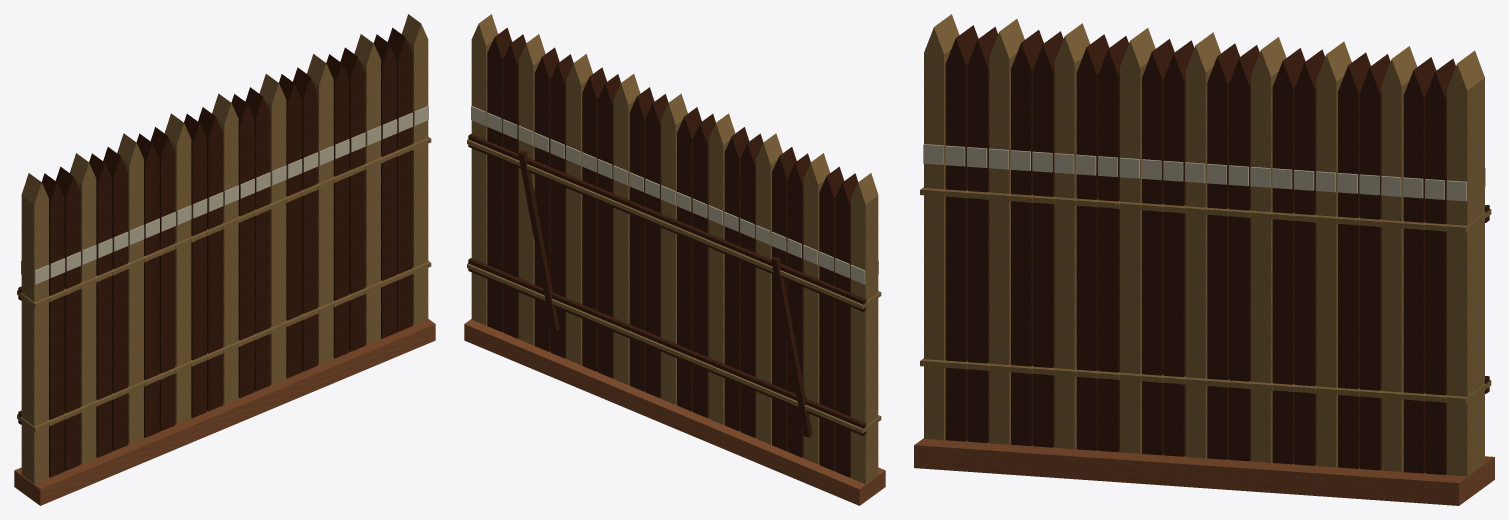
The model's file is Berber_Palisade_Age2_slope_up_6m.fbx.
3 views of the same model, side by side, from view 1: azimuth 30°, elevation 25°; view 2: azimuth 150°, elevation 25°; view 3: azimuth 330°, elevation 25° (orthographic). The views are drawn at different scales.
Parts seen in each view (by area): view 1: palm_split_post.051, palm_split_post.049, palm_split_post.047, palm_split_post.054, palm_split_post.044, earth_seat.007, palm_split_post.050, palm_split_post.053, palm_split_post.056, neutral_owner_band.007, front_lashing.007, lashing_side.007; view 2: palm_split_post.049, palm_split_post.054, palm_split_post.044, palm_split_post.047, palm_split_post.051, earth_seat.007, palm_split_post.050, palm_split_post.053, palm_split_post.056, continuous_rear_tie.007, neutral_owner_band.007, back_lashing.007 (+2 smaller); view 3: palm_split_post.049, palm_split_post.047, palm_split_post.054, palm_split_post.051, palm_split_post.044, palm_split_post.053, palm_split_post.056, earth_seat.007, palm_split_post.050, neutral_owner_band.007, front_lashing.007, lashing_side.007.
Boxes of the visible parts, x1,y1,x2,y2 form: palm_split_post.051: (89, 47, 365, 457); palm_split_post.049: (56, 34, 396, 470); palm_split_post.047: (41, 67, 317, 477); palm_split_post.054: (136, 27, 412, 437); palm_split_post.044: (21, 14, 428, 484); earth_seat.007: (14, 319, 435, 505); palm_split_post.050: (70, 74, 286, 464); palm_split_post.053: (117, 54, 333, 444); palm_split_post.056: (164, 34, 380, 424); neutral_owner_band.007: (21, 106, 428, 284); front_lashing.007: (34, 138, 430, 430); lashing_side.007: (17, 137, 431, 431); palm_split_post.049: (503, 34, 843, 470); palm_split_post.054: (487, 27, 763, 437); palm_split_post.044: (471, 14, 878, 484); palm_split_post.047: (582, 67, 858, 477); palm_split_post.051: (534, 47, 810, 457); earth_seat.007: (464, 319, 885, 505); palm_split_post.050: (613, 74, 829, 464); palm_split_post.053: (566, 54, 782, 444); palm_split_post.056: (519, 34, 735, 424); continuous_rear_tie.007: (468, 134, 866, 435); neutral_owner_band.007: (471, 106, 878, 284); back_lashing.007: (467, 140, 862, 433); palm_split_post.049: (967, 26, 1436, 473); palm_split_post.047: (945, 25, 1325, 465); palm_split_post.054: (1076, 34, 1455, 474); palm_split_post.051: (1011, 30, 1390, 470); palm_split_post.044: (924, 14, 1484, 476); palm_split_post.053: (1054, 23, 1351, 467); palm_split_post.056: (1120, 28, 1417, 471); earth_seat.007: (914, 438, 1494, 505); palm_split_post.050: (989, 19, 1286, 462); neutral_owner_band.007: (923, 144, 1485, 201); front_lashing.007: (921, 188, 1466, 403); lashing_side.007: (920, 187, 1491, 403).
Size of the model in its own units: 601 by 556 by 68.29.
Materials: 4 (4 with a texture image).
